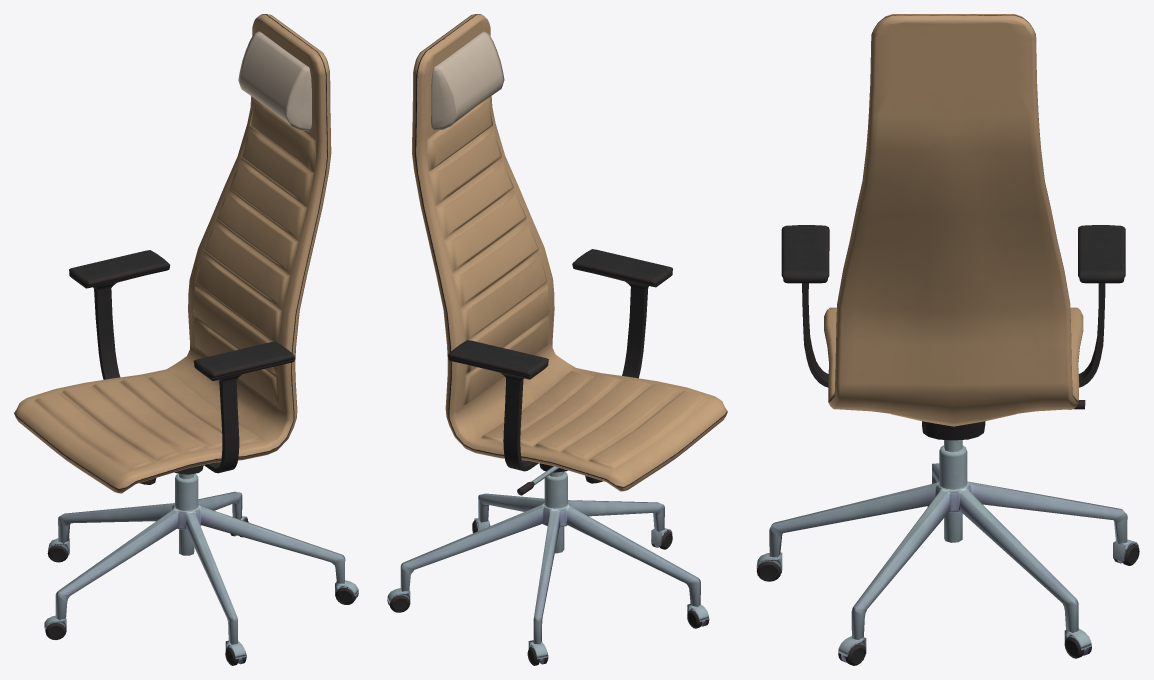
Rendered from Chair.fbx.
The picture shows the model from 3 angles, left to right: view 1: azimuth 30°, elevation 25°; view 2: azimuth 150°, elevation 25°; view 3: azimuth 270°, elevation 25°; orthographic projection. The views are drawn at different scales.
Visible parts, largest first — view 1: High_chair3; view 2: High_chair3; view 3: High_chair3.
Part boxes in pixels (x1,y1,x2,y2): High_chair3: (14, 14, 358, 665); High_chair3: (387, 14, 727, 665); High_chair3: (756, 14, 1139, 665).
Size of the model in its own units: 68.72 by 129 by 69.96.
